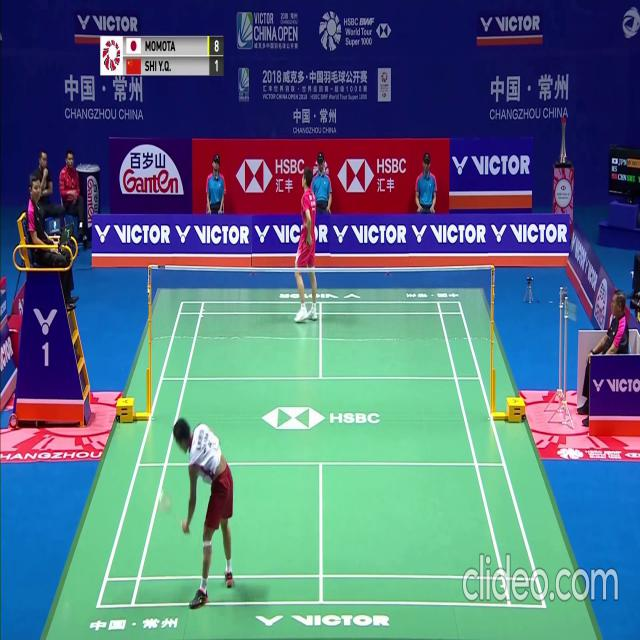Shuttlecock: (159, 490, 164, 497)
